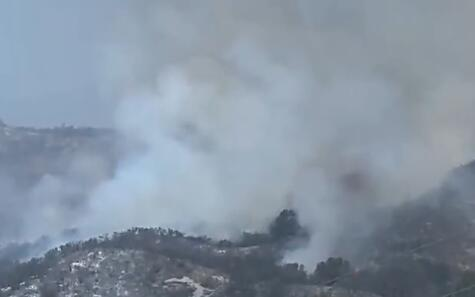smoke: (1, 0, 475, 258)
